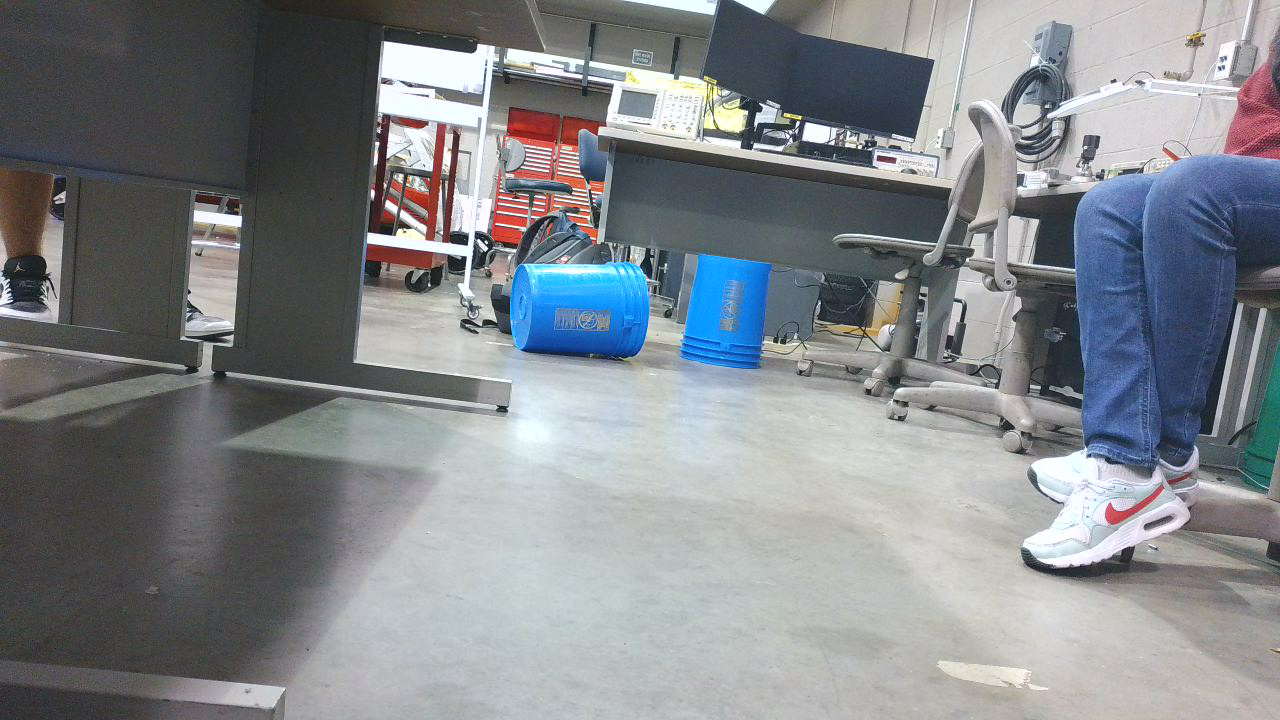blue_bucket: (513, 264, 652, 365), (686, 257, 779, 375), (648, 321, 653, 322), (665, 344, 666, 345)
